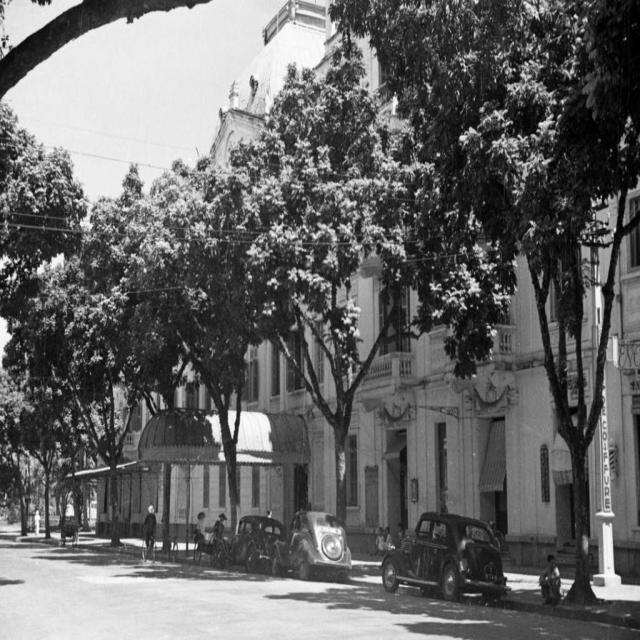car: (379, 509, 503, 601), (270, 505, 354, 582)
